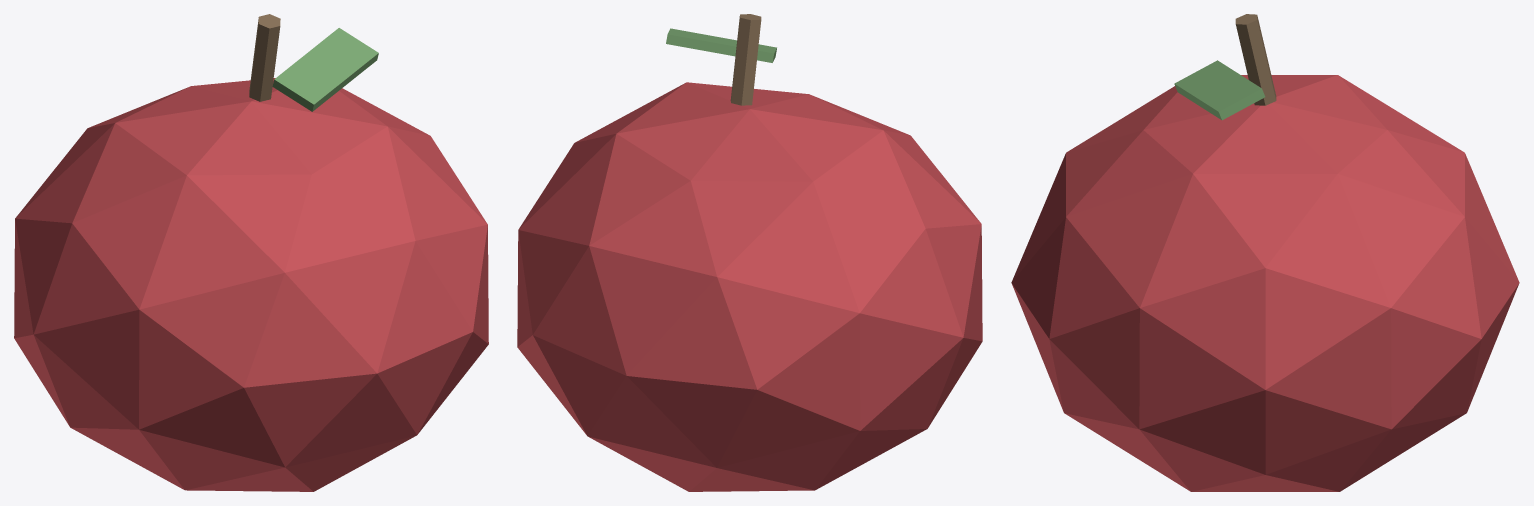
The model's file is lowpoly_apple.glb.
3 renders of one model, left to right at view 1: azimuth 30°, elevation 25°; view 2: azimuth 150°, elevation 25°; view 3: azimuth 270°, elevation 25°, orthographic. The views are drawn at different scales.
Parts seen in each view (by area): view 1: geometry_0; view 2: geometry_0; view 3: geometry_0.
Boxes of the visible parts, left/top/right/bottom form: geometry_0: left=14, top=14, right=488, bottom=491; geometry_0: left=517, top=14, right=982, bottom=491; geometry_0: left=1011, top=14, right=1519, bottom=491.
Bounding box in the file's own units: 1 × 1.01 × 1.
